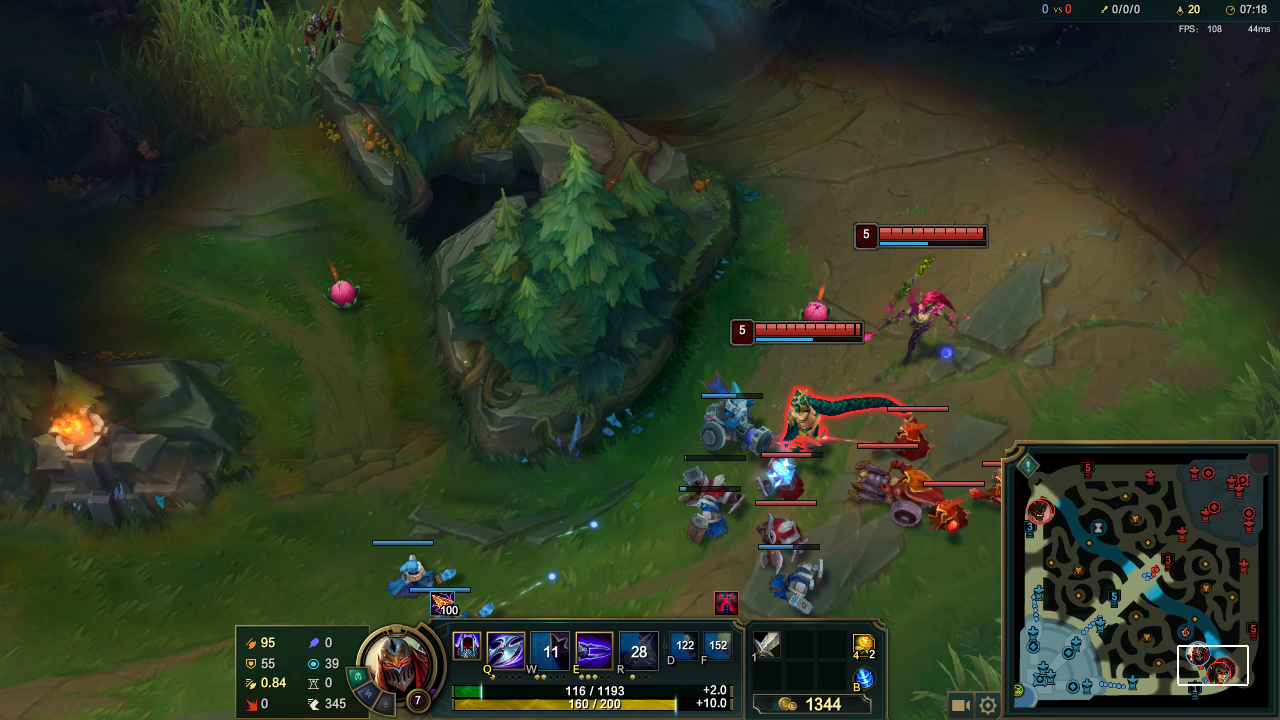DFYX: (754, 322, 860, 344), (876, 226, 986, 244)
